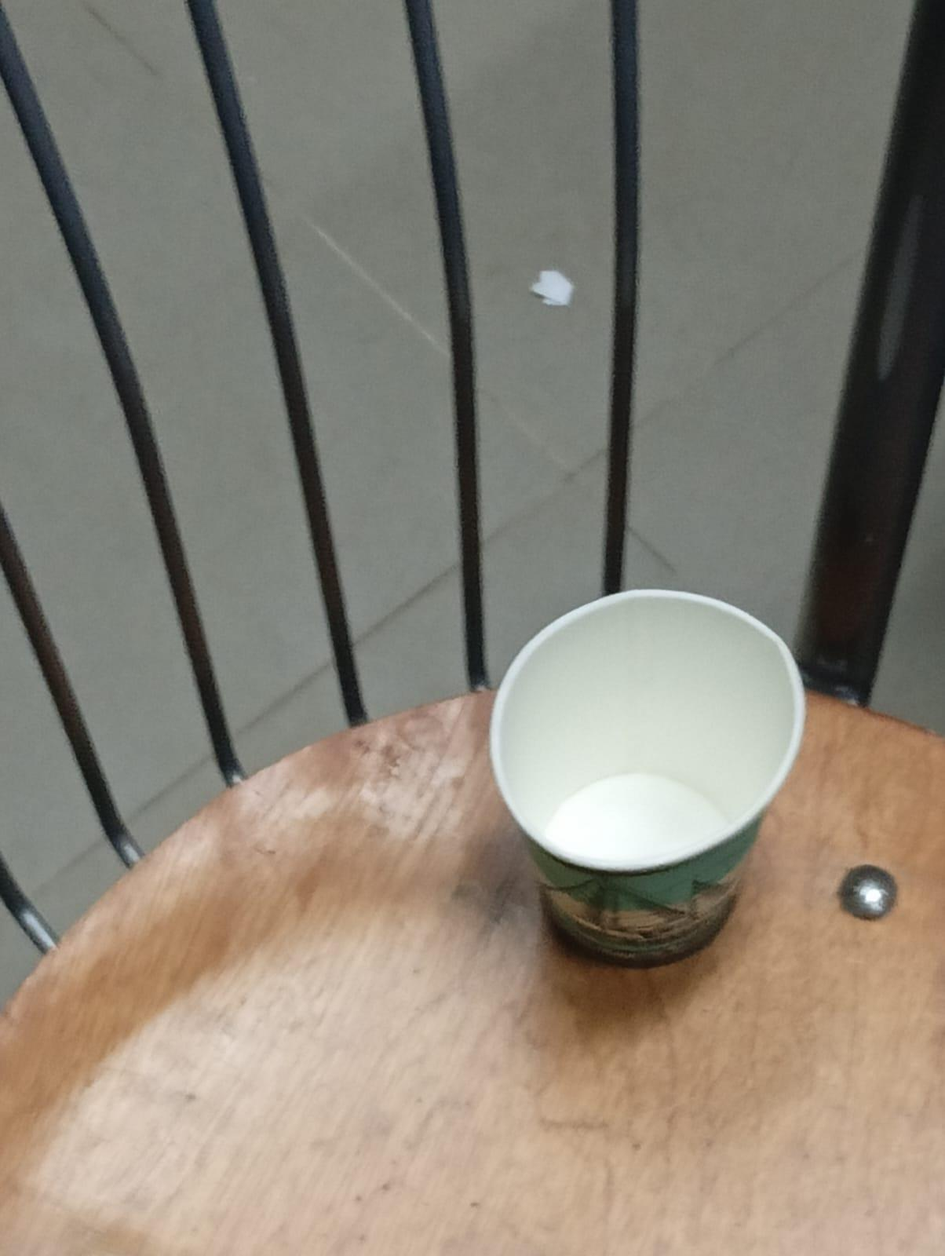cup: (489, 590, 805, 966), (502, 590, 803, 858)
